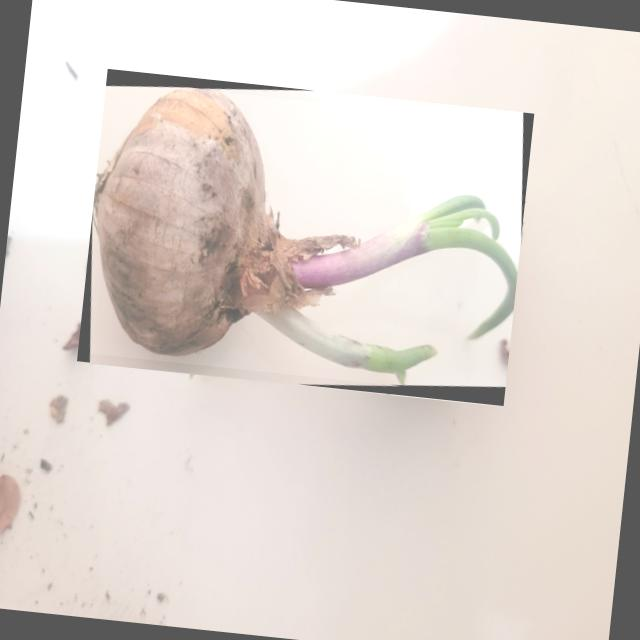rotten: (92, 89, 517, 386)
